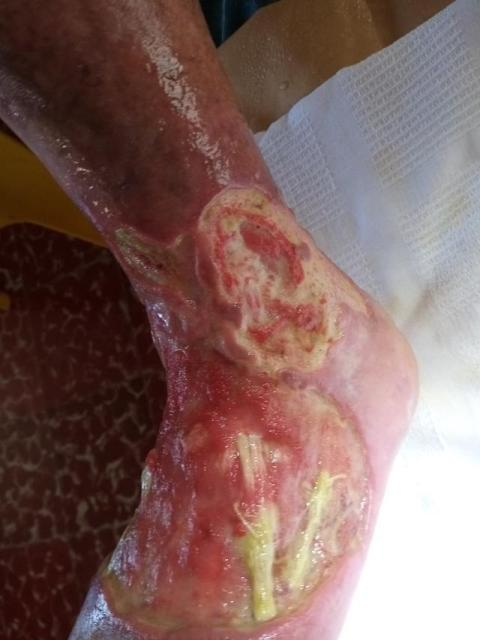wound: (96, 184, 369, 630)
